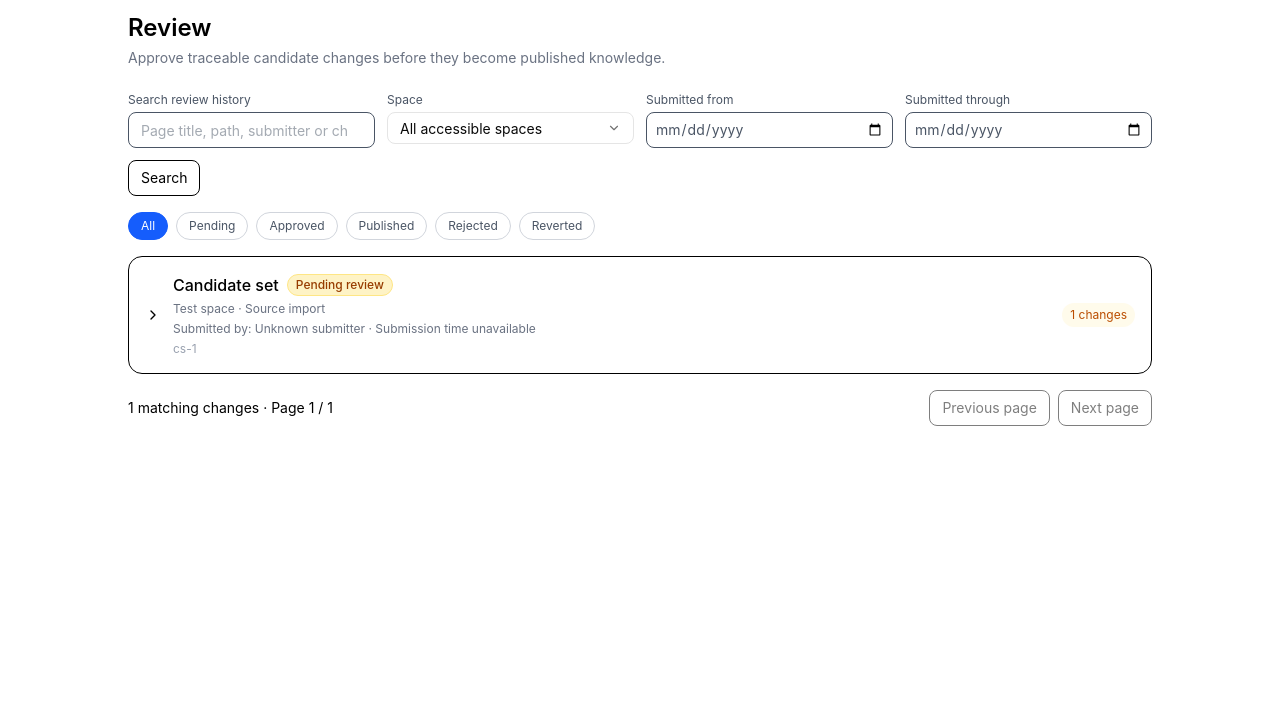
Test case: ReviewPage detail refresh › shows lifecycle-neutral source alignment in en for pending_review
Step 1. Click the button "Candidate set" → (226, 285), box 129,257 -> 1151,373
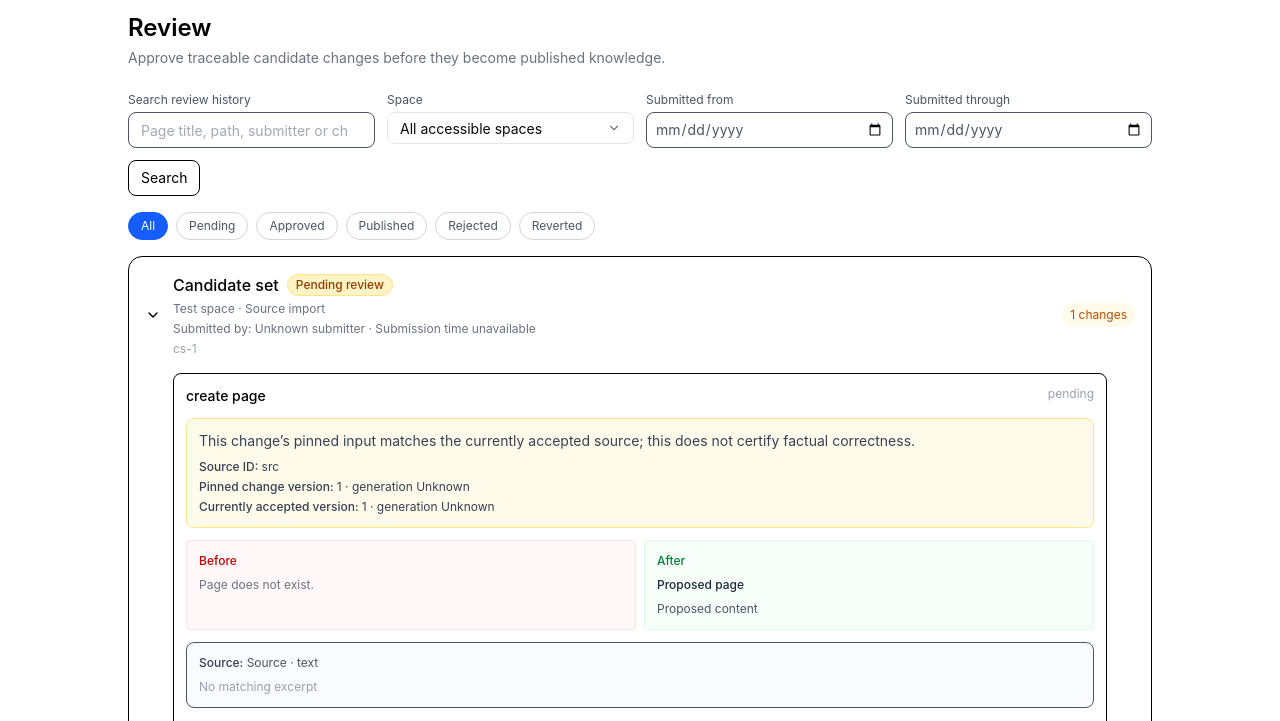
Expected: the text "Proposed page" is shown, 657,577 -> 744,592
Expected: the text "This change’s pinned input matches the currently accepted source" is shown, 199,432 -> 915,449
Expected: the text "does not certify factual correctness" is shown, 199,432 -> 915,449
